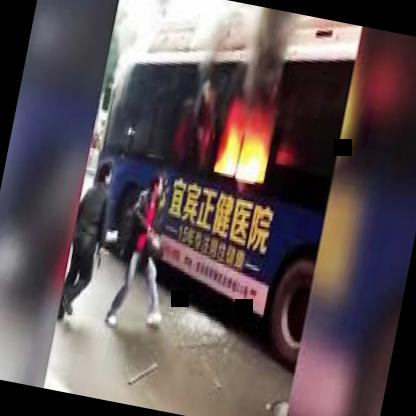fire: (181, 32, 306, 204)
